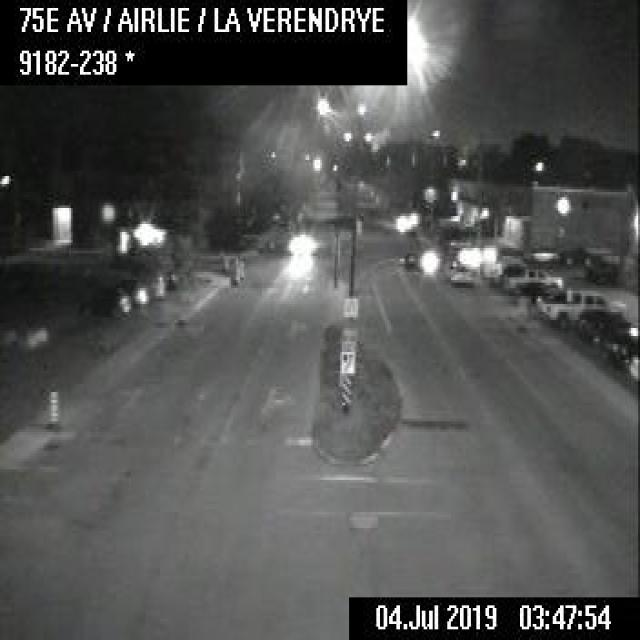construction: (47, 384, 60, 427), (229, 254, 239, 282), (222, 251, 229, 271), (237, 255, 243, 278)
vehicle: (535, 285, 627, 328), (500, 264, 564, 296), (73, 283, 129, 317), (575, 304, 626, 338), (604, 324, 636, 358), (448, 257, 476, 286)
